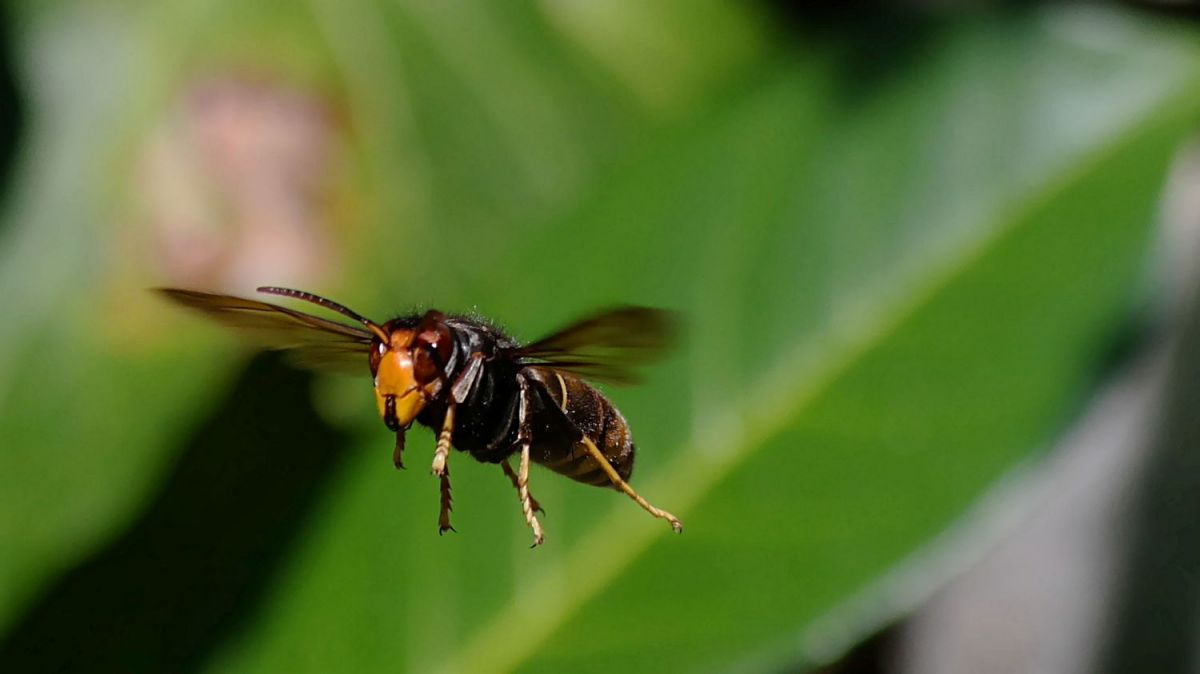hornet: (300, 277, 723, 560)
